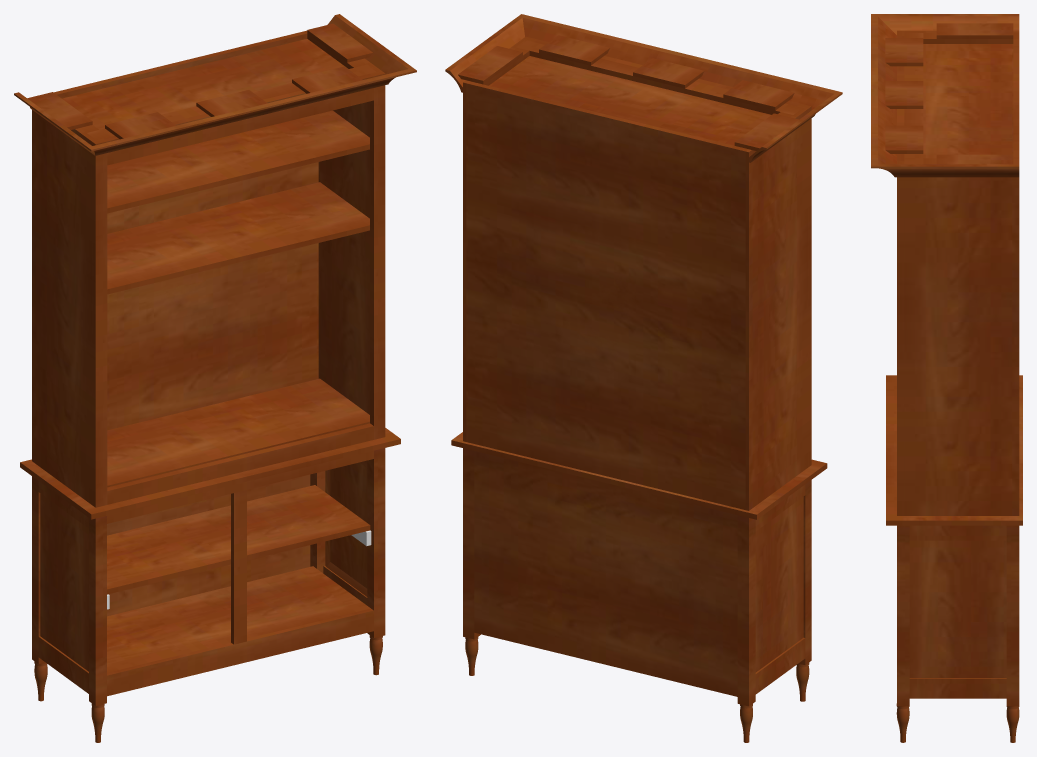
Rendered from cupboard_body.dae.
The picture shows the model from 3 angles, left to right: view 1: azimuth 30°, elevation 25°; view 2: azimuth 150°, elevation 25°; view 3: azimuth 270°, elevation 25°; orthographic projection. The views are drawn at different scales.
Visible parts, largest first — view 1: Shelves___Top___Bottom (×4), Back_Slats, Side_Panels (×2), Bottom_Shelf, Bottom_-_lwr, Face_Frame_Stiles (×2), Side_Panel_Lwr_cab (×2), Leg (×3), back_Slats_Lower, Lwr_Front_Rail_Lwr_Cab, Crown_Support_Block (×5), Crown (+7 smaller); view 2: Back_Slats, back_Slats_Lower, Side_Panels (×2), Shelves___Top___Bottom, Leg (×3), Crown, Side_Panel_Lwr_cab, Crown_Support_Block (×5), Top, crown_support_backer, Face_Frame_Stiles, Side_Rails_Lwr_Cab; view 3: Side_Panels, Side_Panel_Lwr_cab, Shelves___Top___Bottom, Crown, Crown_Support_Block (×5), Leg (×2), Side_Rails_Lwr_Cab (×2), Top, Face_Frame_Stiles, crown_support_backer, Back_Slats, Feet (×2) (+2 smaller).
Part boxes in pixels (box(x1,y1,x2,y2)): Shelves___Top___Bottom (×4): box(62, 39, 369, 487); Back_Slats: box(53, 30, 319, 430); Side_Panels (×2): box(32, 58, 381, 504); Bottom_Shelf: box(107, 485, 370, 594); Bottom_-_lwr: box(107, 566, 370, 672); Face_Frame_Stiles (×2): box(92, 71, 385, 507); Side_Panel_Lwr_cab (×2): box(40, 460, 367, 671); Leg (×3): box(32, 448, 385, 705); back_Slats_Lower: box(107, 474, 312, 616); Lwr_Front_Rail_Lwr_Cab: box(107, 608, 373, 696); Crown_Support_Block (×5): box(27, 23, 372, 139); Crown: box(14, 14, 416, 155); Back_Slats: box(466, 81, 748, 509); back_Slats_Lower: box(474, 451, 737, 696); Side_Panels (×2): box(463, 39, 807, 510); Shelves___Top___Bottom: box(489, 56, 770, 145); Leg (×3): box(463, 448, 811, 706); Crown: box(445, 14, 842, 162); Side_Panel_Lwr_cab: box(755, 497, 803, 672); Crown_Support_Block (×5): box(458, 35, 798, 150); Top: box(451, 432, 827, 519); crown_support_backer: box(516, 40, 802, 114); Face_Frame_Stiles: box(797, 103, 811, 467); Side_Rails_Lwr_Cab: box(755, 637, 805, 694); Side_Panels: box(904, 177, 1019, 515); Side_Panel_Lwr_cab: box(909, 540, 1006, 677); Shelves___Top___Bottom: box(923, 44, 1013, 158); Crown: box(871, 14, 1019, 177); Crown_Support_Block (×5): box(885, 23, 1013, 164); Leg (×2): box(897, 525, 1019, 706); Side_Rails_Lwr_Cab (×2): box(909, 525, 1006, 698); Top: box(886, 375, 1022, 525); Face_Frame_Stiles: box(897, 161, 904, 515); crown_support_backer: box(904, 33, 923, 164); Back_Slats: box(1013, 32, 1019, 164); Feet (×2): box(896, 707, 1019, 742).
Bounding box in the file's own units: 49.43 × 20.79 × 88.5.
Materials: 2 (1 with a texture image).
